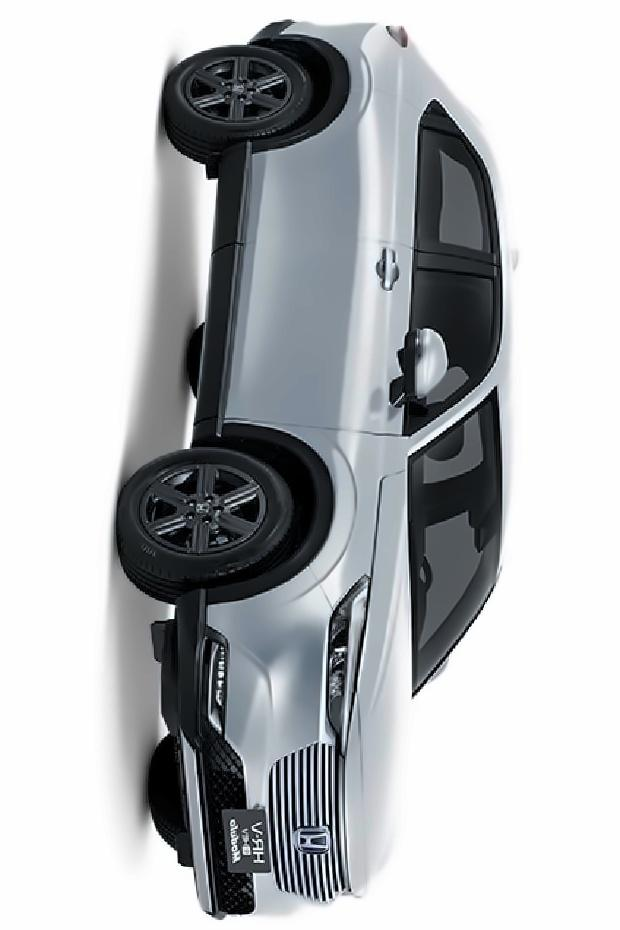Car hood: (338, 460, 425, 902)
Driver-s door - -F-R-: (213, 243, 516, 428)
Fender - -F-R-: (190, 408, 406, 613)
Fender - -R-R-: (223, 16, 432, 175)
Front bumper: (163, 574, 334, 930)
Headlight - -L-: (315, 560, 377, 756)
Rear bumper: (250, 8, 318, 59)
Rear light - -L-: (360, 0, 427, 57)
Side bumper - -R-: (188, 129, 254, 455)
Side mirror - -R-: (389, 313, 466, 422)
